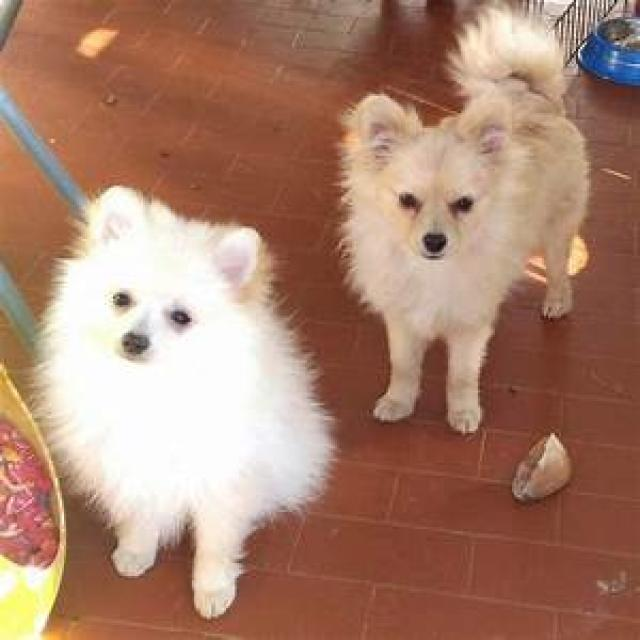dog: (30, 186, 337, 621), (337, 4, 591, 439)
